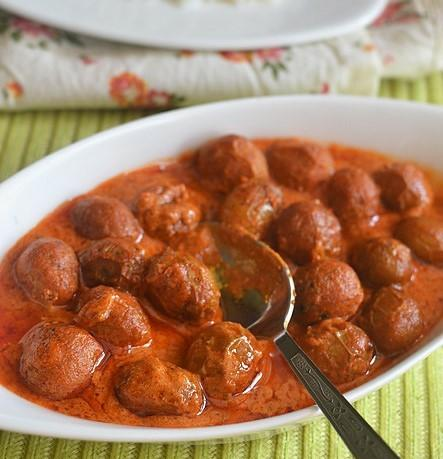DumAloo: (4, 135, 443, 432)
